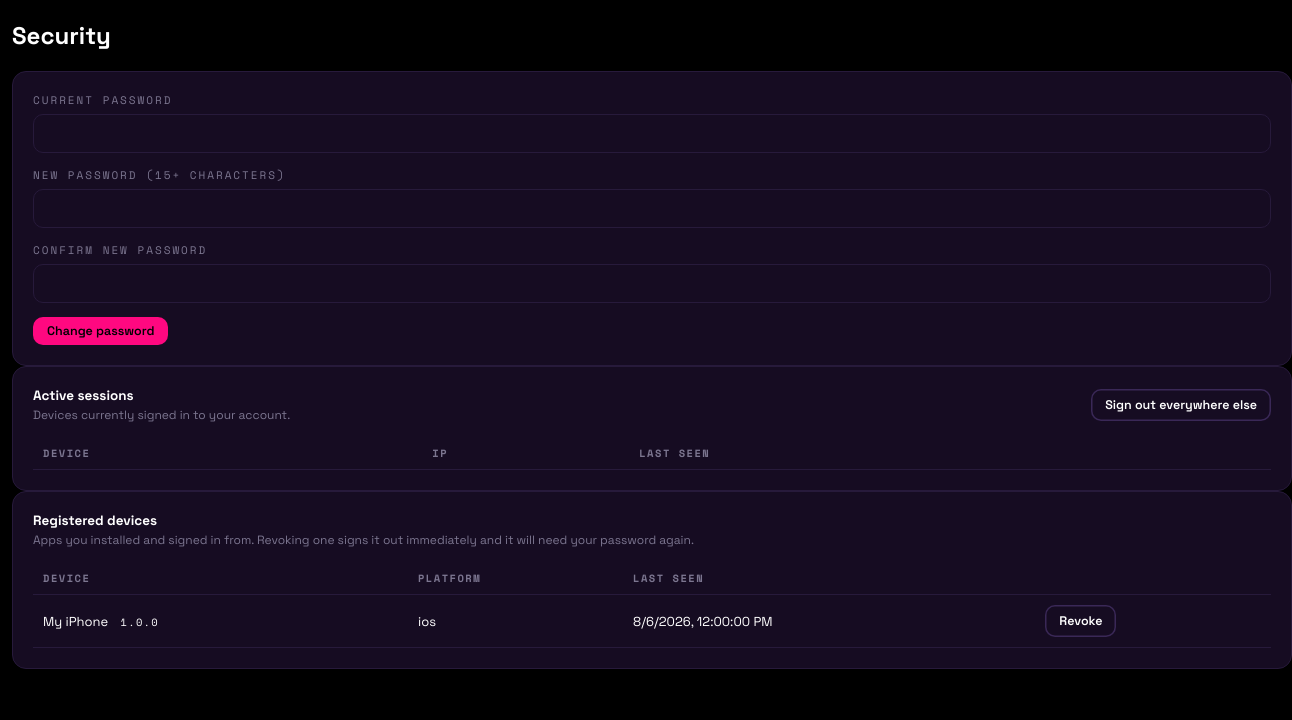
Test: SecuritySection registered devices › keeps the device and explains itself when revocation fails
Expected: the text "My iPhone" is shown, [43, 613, 108, 630]
Click the button "Revoke" at coordinates (1081, 621), box [1045, 605, 1116, 637]
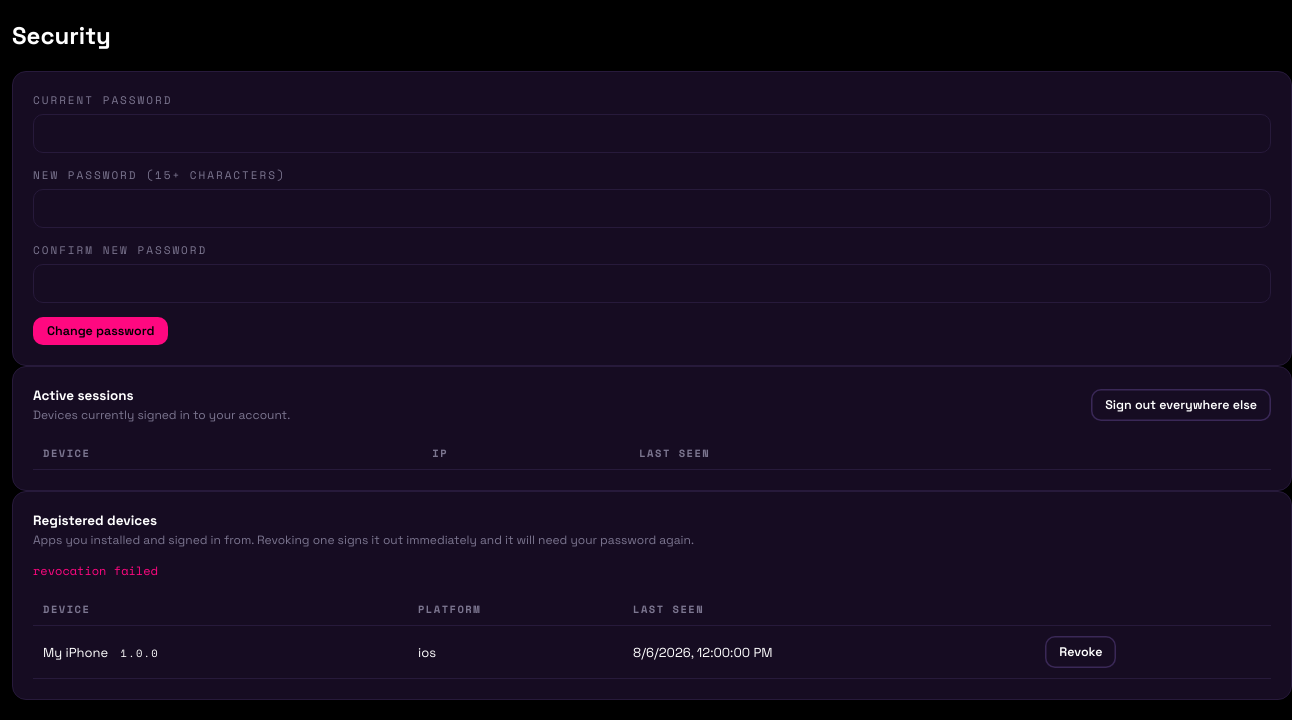
Expected: the text "My iPhone" is shown, [43, 644, 108, 661]
Expected: the text "revocation failed" is shown, [33, 562, 158, 579]
